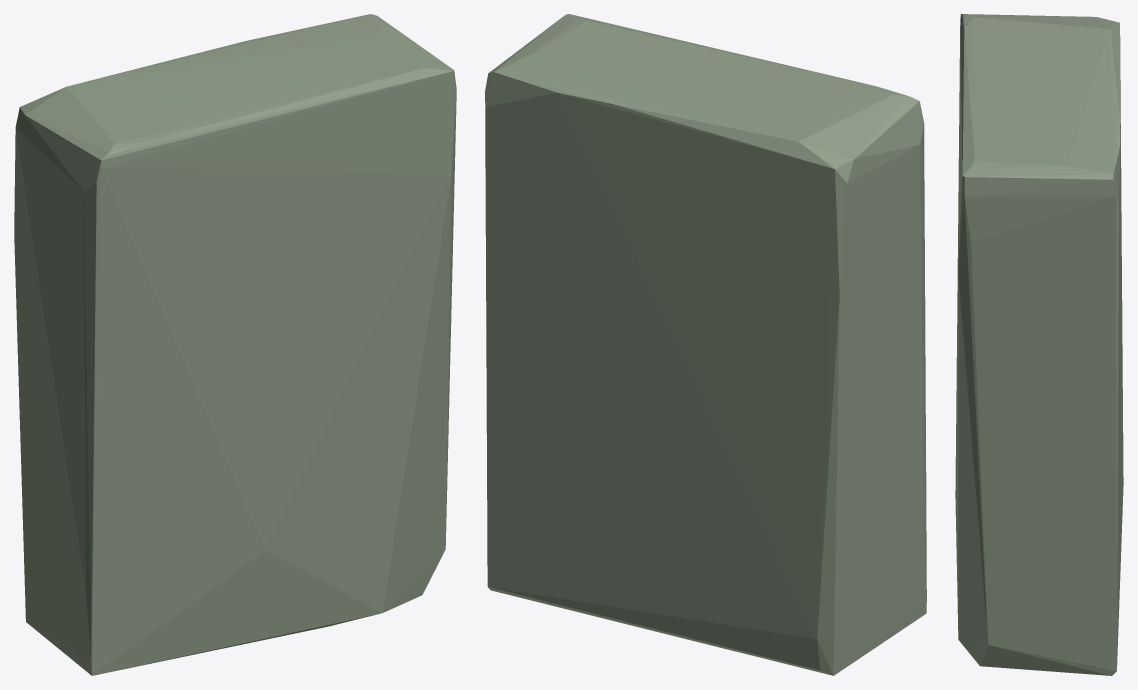
Rendered from cleaning_sponge_e01.glb.
3 renders of one model, left to right at view 1: azimuth 30°, elevation 25°; view 2: azimuth 150°, elevation 25°; view 3: azimuth 270°, elevation 25°, orthographic. The views are drawn at different scales.
Visible parts, largest first — view 1: geometry_0; view 2: geometry_0; view 3: geometry_0.
Boxes of the visible parts, x1,y1,x2,y2 form: geometry_0: [14, 14, 456, 675]; geometry_0: [485, 14, 926, 675]; geometry_0: [955, 14, 1123, 675].
Size of the model in its own units: 0.3493 by 0.4796 by 0.1449.
